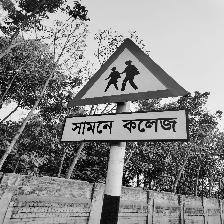College-in-front: (61, 36, 209, 160)
